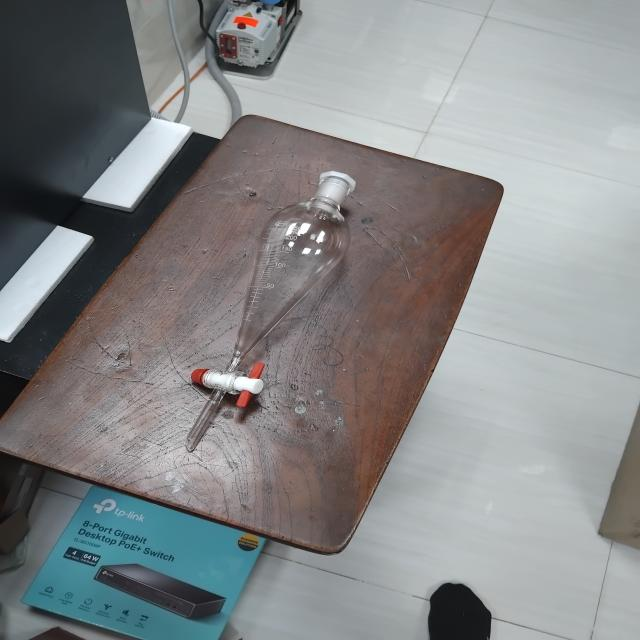Separating_Funnel: (163, 154, 378, 468)
